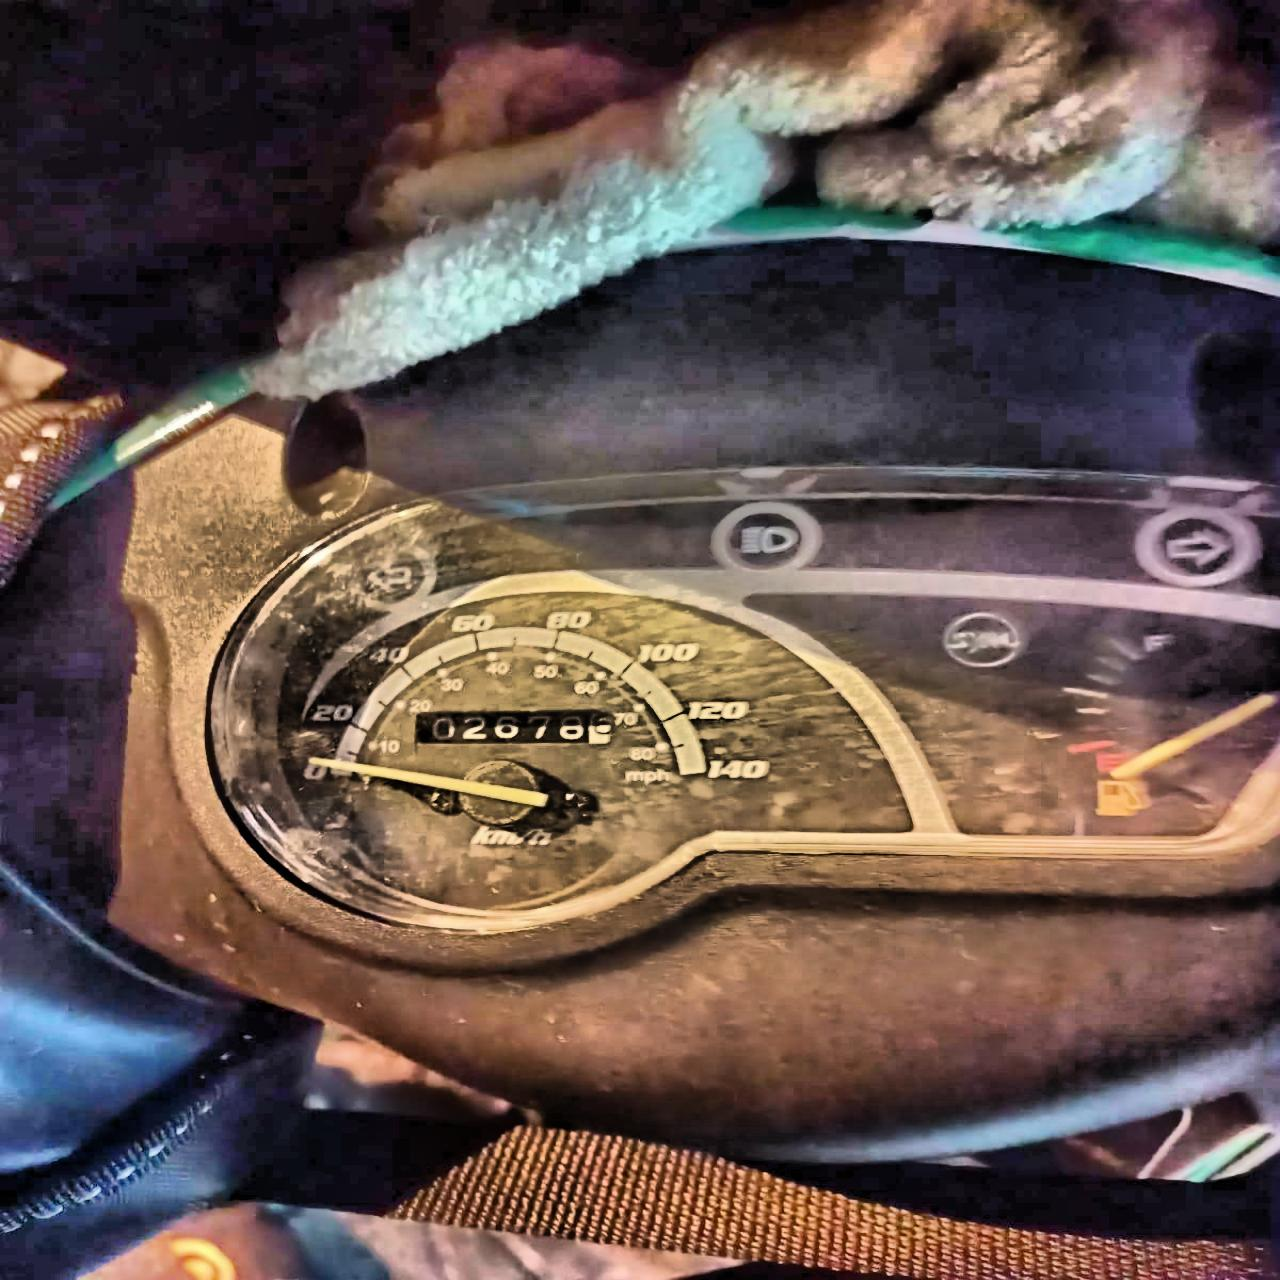0: (429, 715, 455, 741)
2: (459, 715, 488, 742)
6: (492, 715, 518, 740), (591, 710, 611, 738)
7: (525, 712, 551, 738)
8: (557, 714, 586, 741)
odometer: (413, 709, 614, 747)
